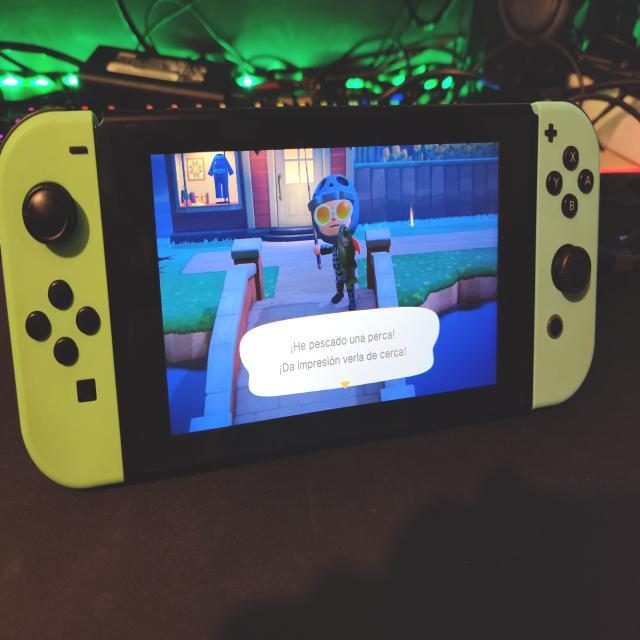text_bubble: (239, 305, 443, 401)
